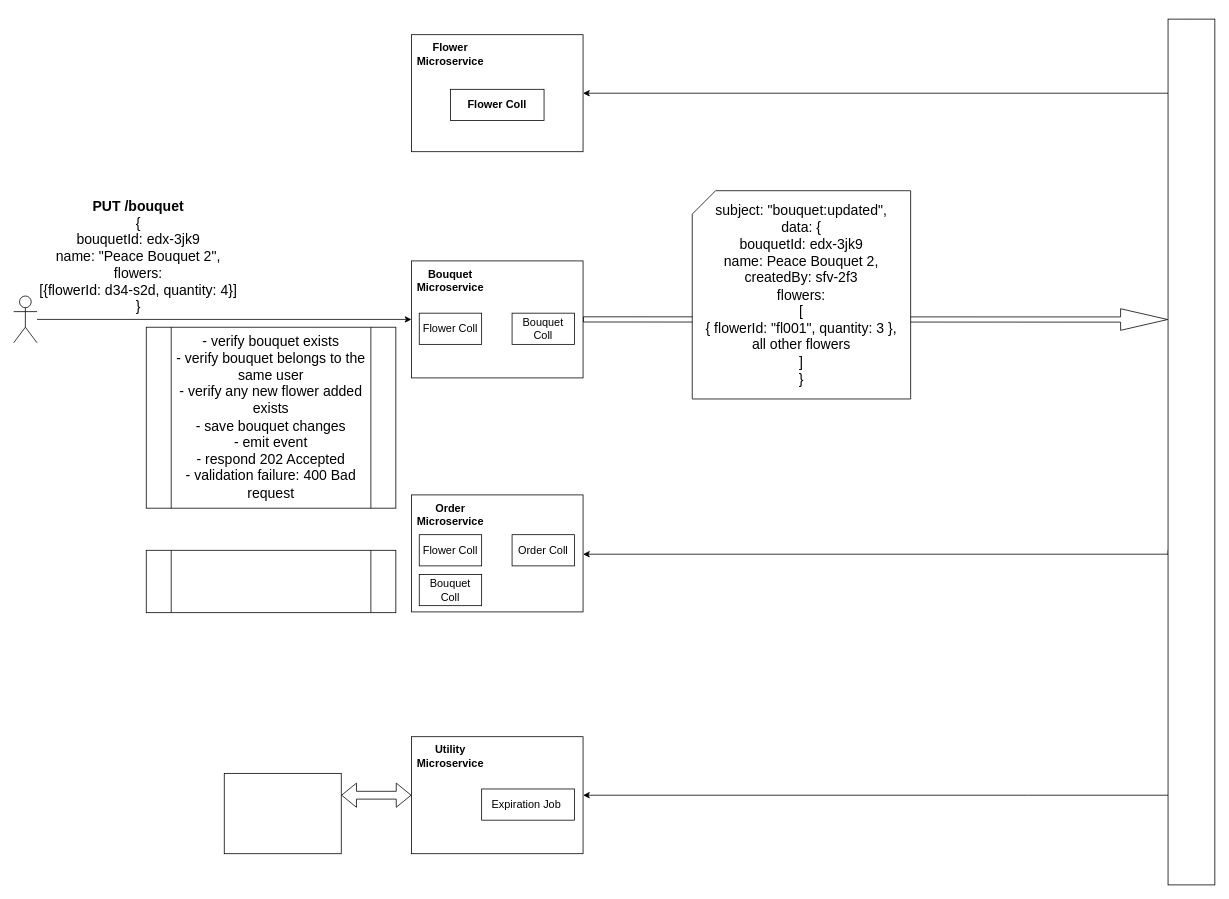
Image size: 1229x899. Some labels were removed from this diagram. The centre of each missing label's shape, as x and y in pixels:
Actor: [25,319]
E V E N T B U S: [1191,451]
Redis in-mem: [282,813]
save the bouquet changes: [270,581]
